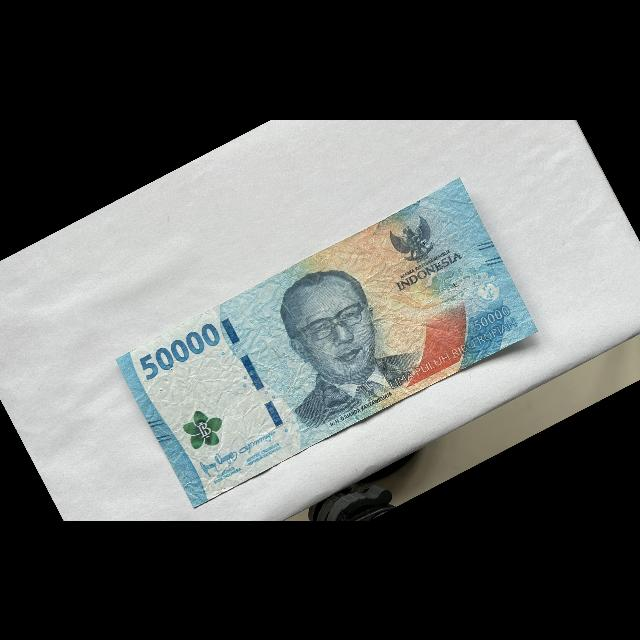Palsu-50k: (110, 172, 543, 512)
Tinta-Palsu-50k: (177, 400, 232, 455)
